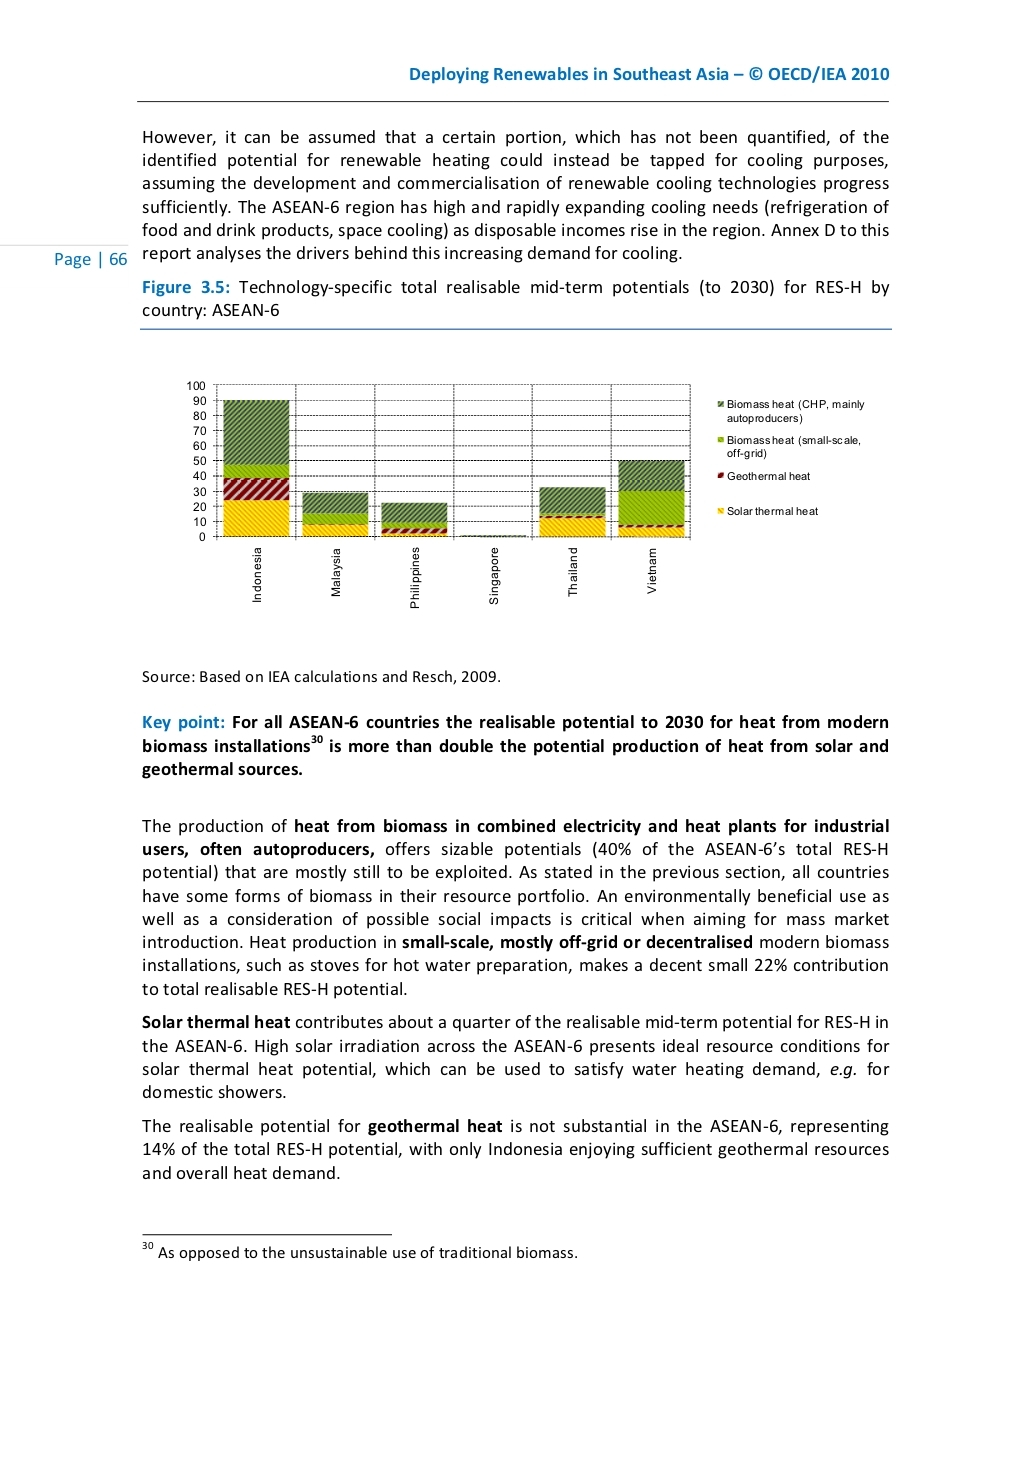figure: (187, 381, 690, 608), (716, 400, 864, 515)
